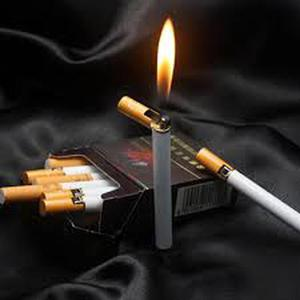fire: (153, 13, 181, 104)
